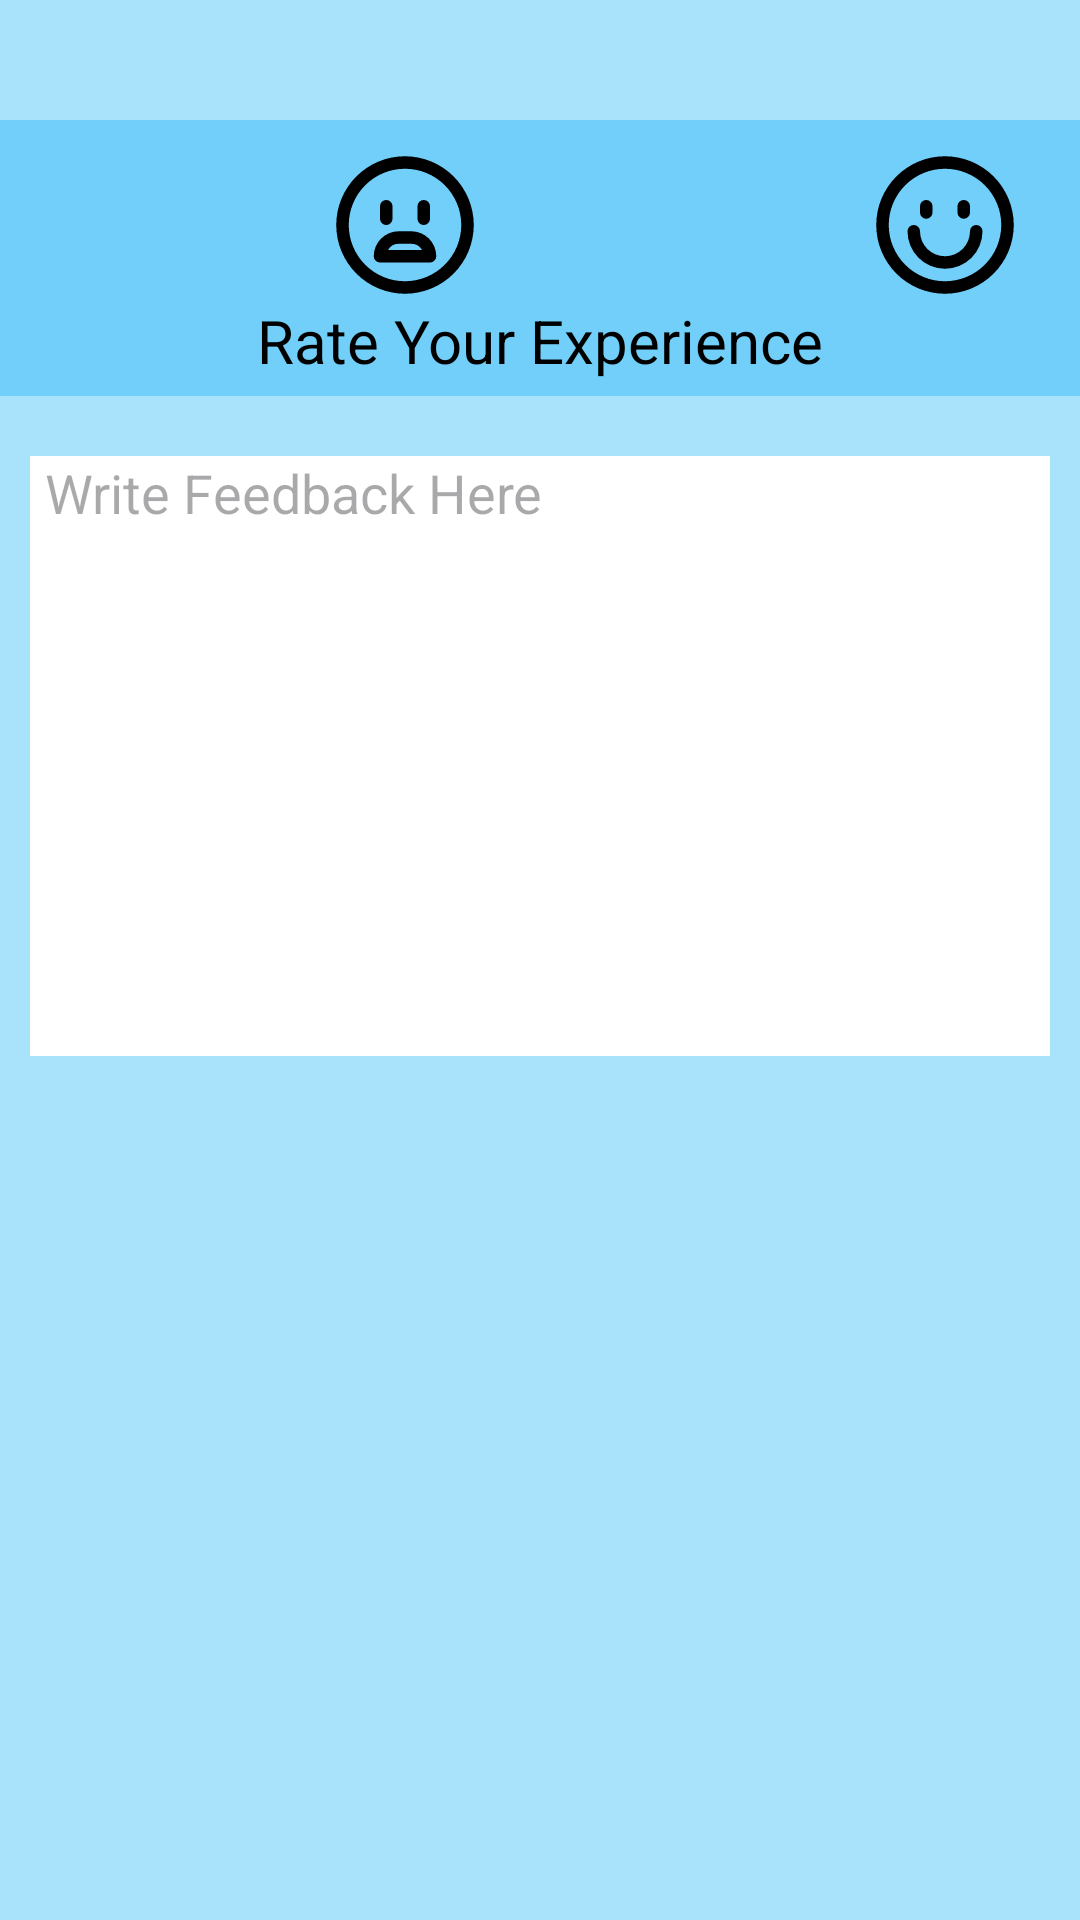

Named icons in this screenshot (1080px×1920px) and their centers, (x,y):
emoji: (405,225), (945,225)
